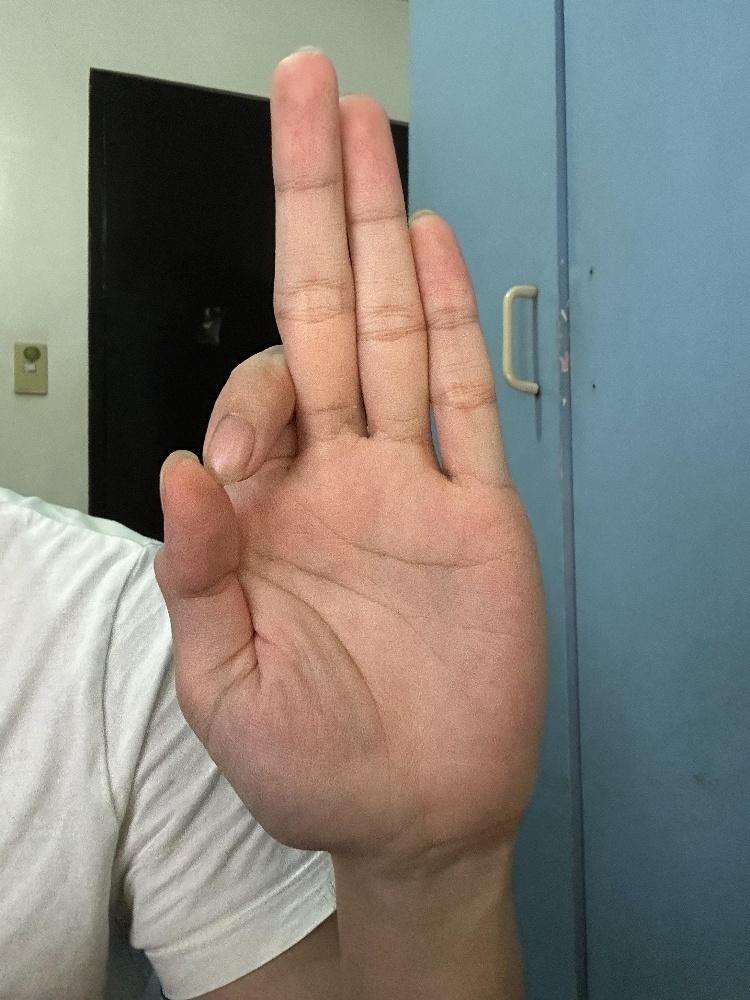f: (149, 43, 553, 870)
